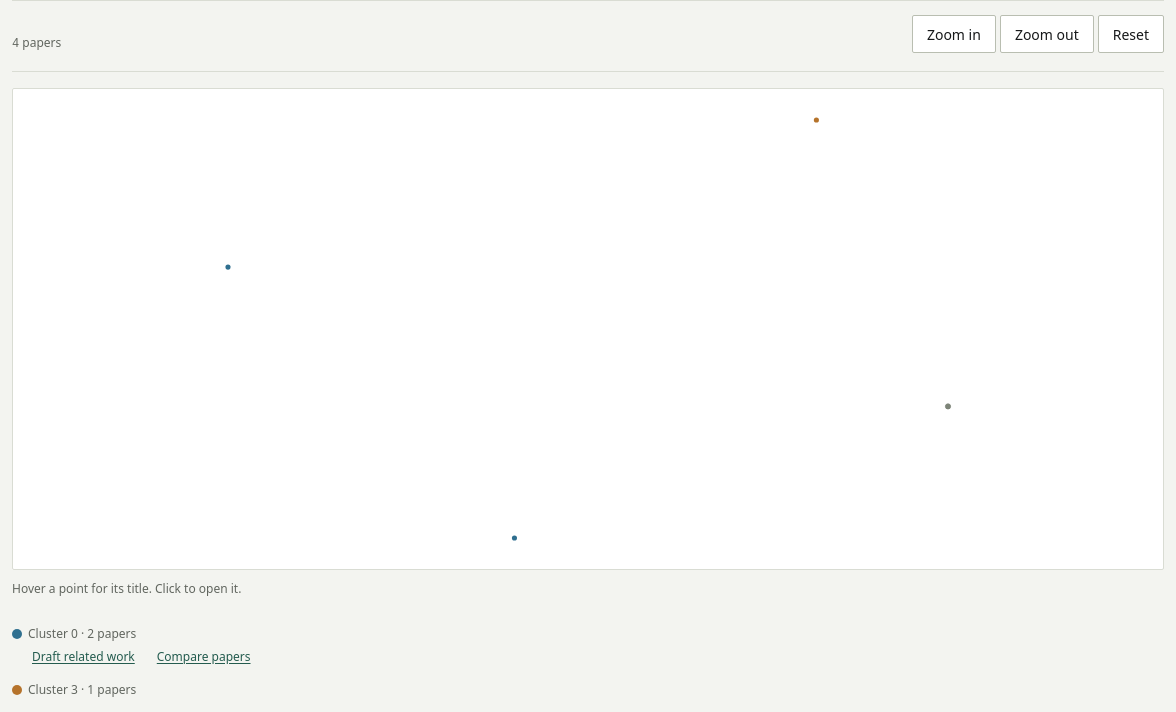
it: map view › opens a cluster comparison that waits for an explicit run
Click the button with aria-label "Compare papers in Cluster 0" at point(204, 657), box [153,647,255,668]
(page scrolled)
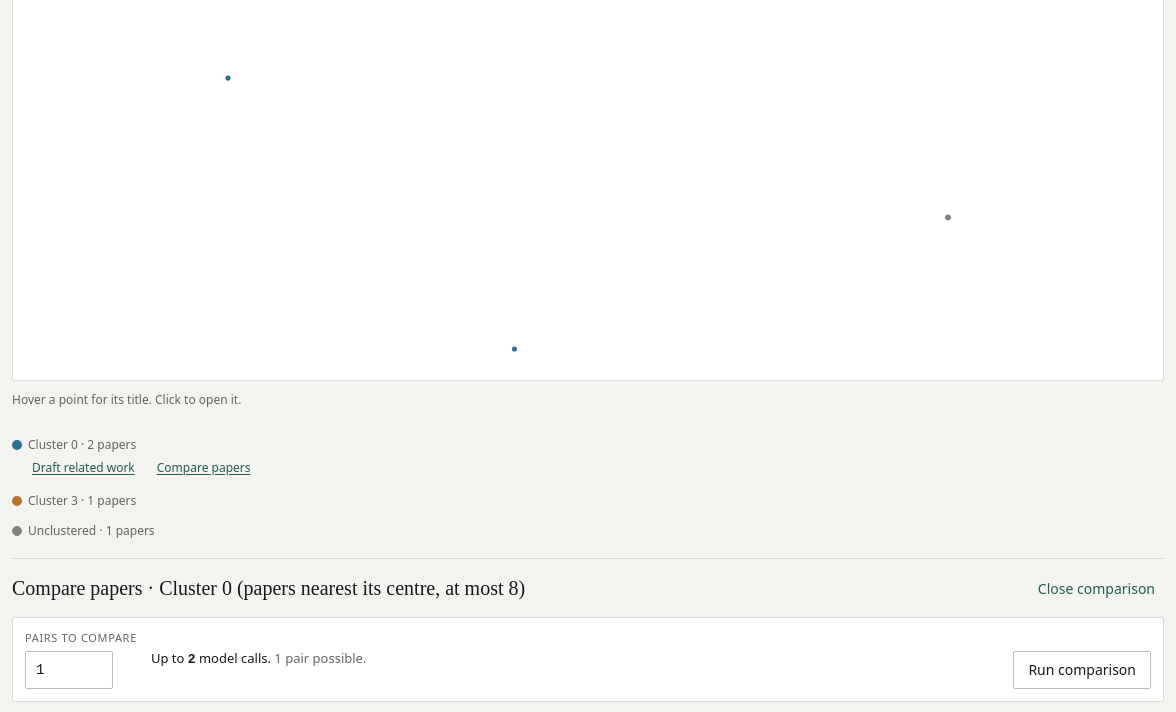
expect the heading "Compare papers · Cluster 0 (papers nearest its centre, at most 8)" is shown: met, box [12,573,525,603]
expect the text "Up to 2 model calls. 1 pair possible." is shown: met, box [151,649,366,667]
Click the button "Run comparison" at point(1082, 670), box [1013,651,1151,689]
(page scrolled)
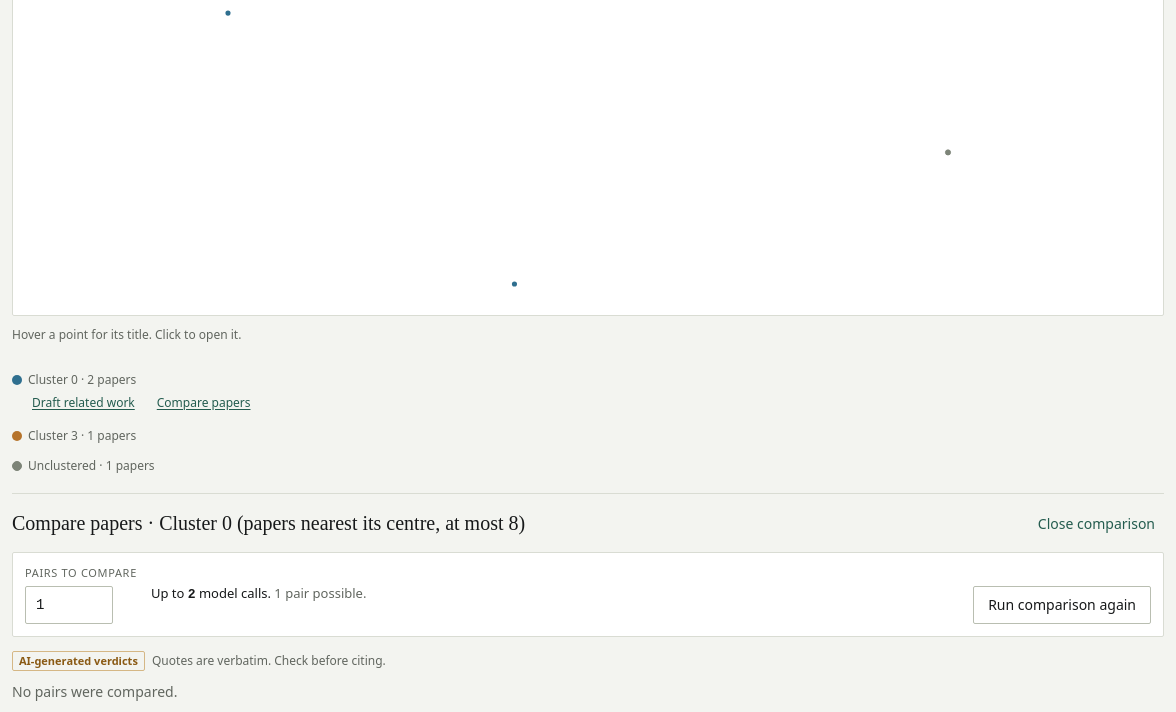
expect the text "No pairs were compared." is shown: met, box [12,682,177,701]
